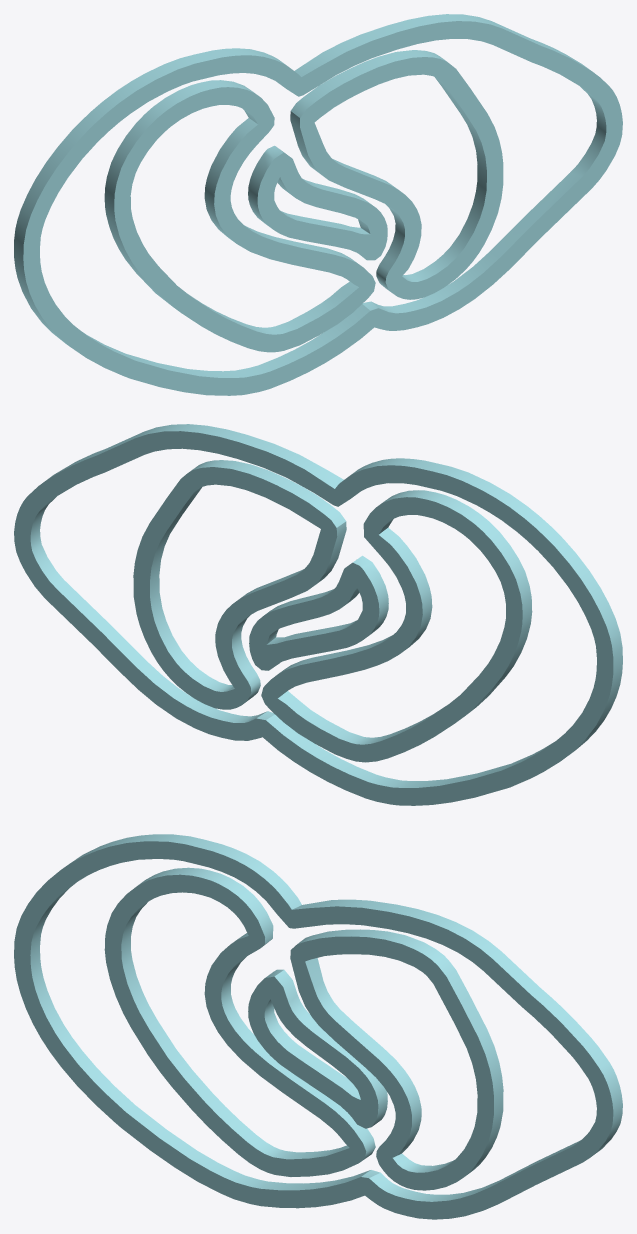
The model's file is ocove.glb.
3 renders of one model, top to bottom at view 1: azimuth 30°, elevation 25°; view 2: azimuth 150°, elevation 25°; view 3: azimuth 330°, elevation 25°, orthographic.
Parts seen in each view (by area): view 1: Curve; view 2: Curve; view 3: Curve.
Boxes of the visible parts, x1,y1,x2,y2 form: Curve: [14, 14, 622, 395]; Curve: [14, 424, 622, 805]; Curve: [14, 834, 622, 1219].
Size of the model in its own units: 0.2541 by 0.1393 by 0.00699.
